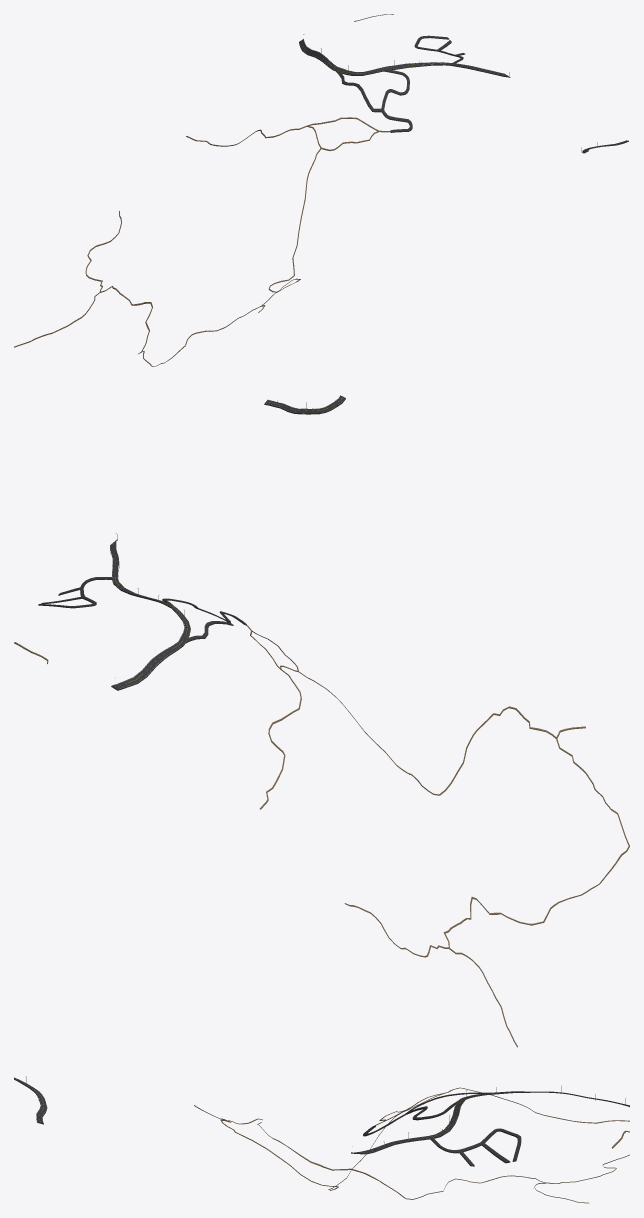
The picture shows the model from 3 angles, top to bottom: view 1: azimuth 30°, elevation 25°; view 2: azimuth 150°, elevation 25°; view 3: azimuth 270°, elevation 25°; orthographic projection. The views are drawn at different scales.
Size of the model in its own units: 589 by 372 by 583.
